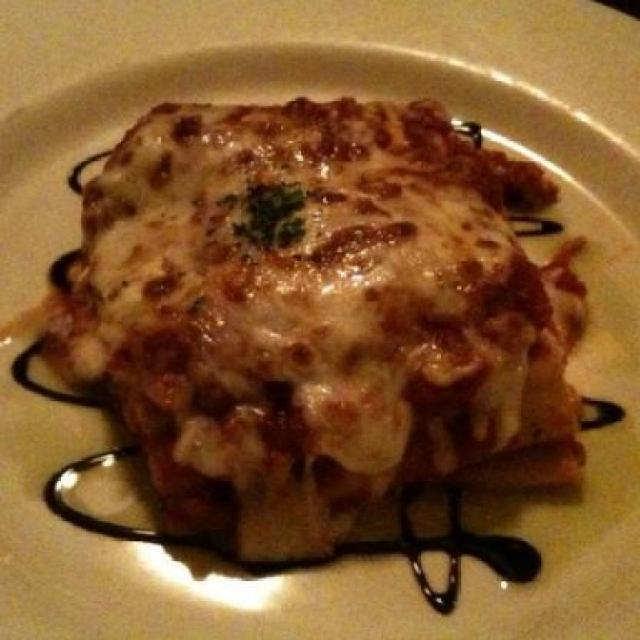Lasagna: (91, 91, 563, 584)
